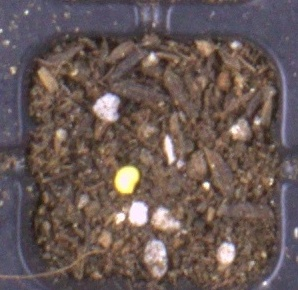chilli seed: (113, 165, 141, 194)
